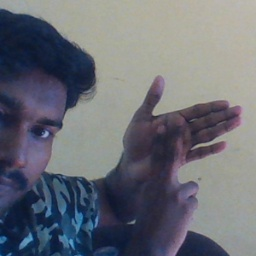N: (109, 73, 247, 220)
